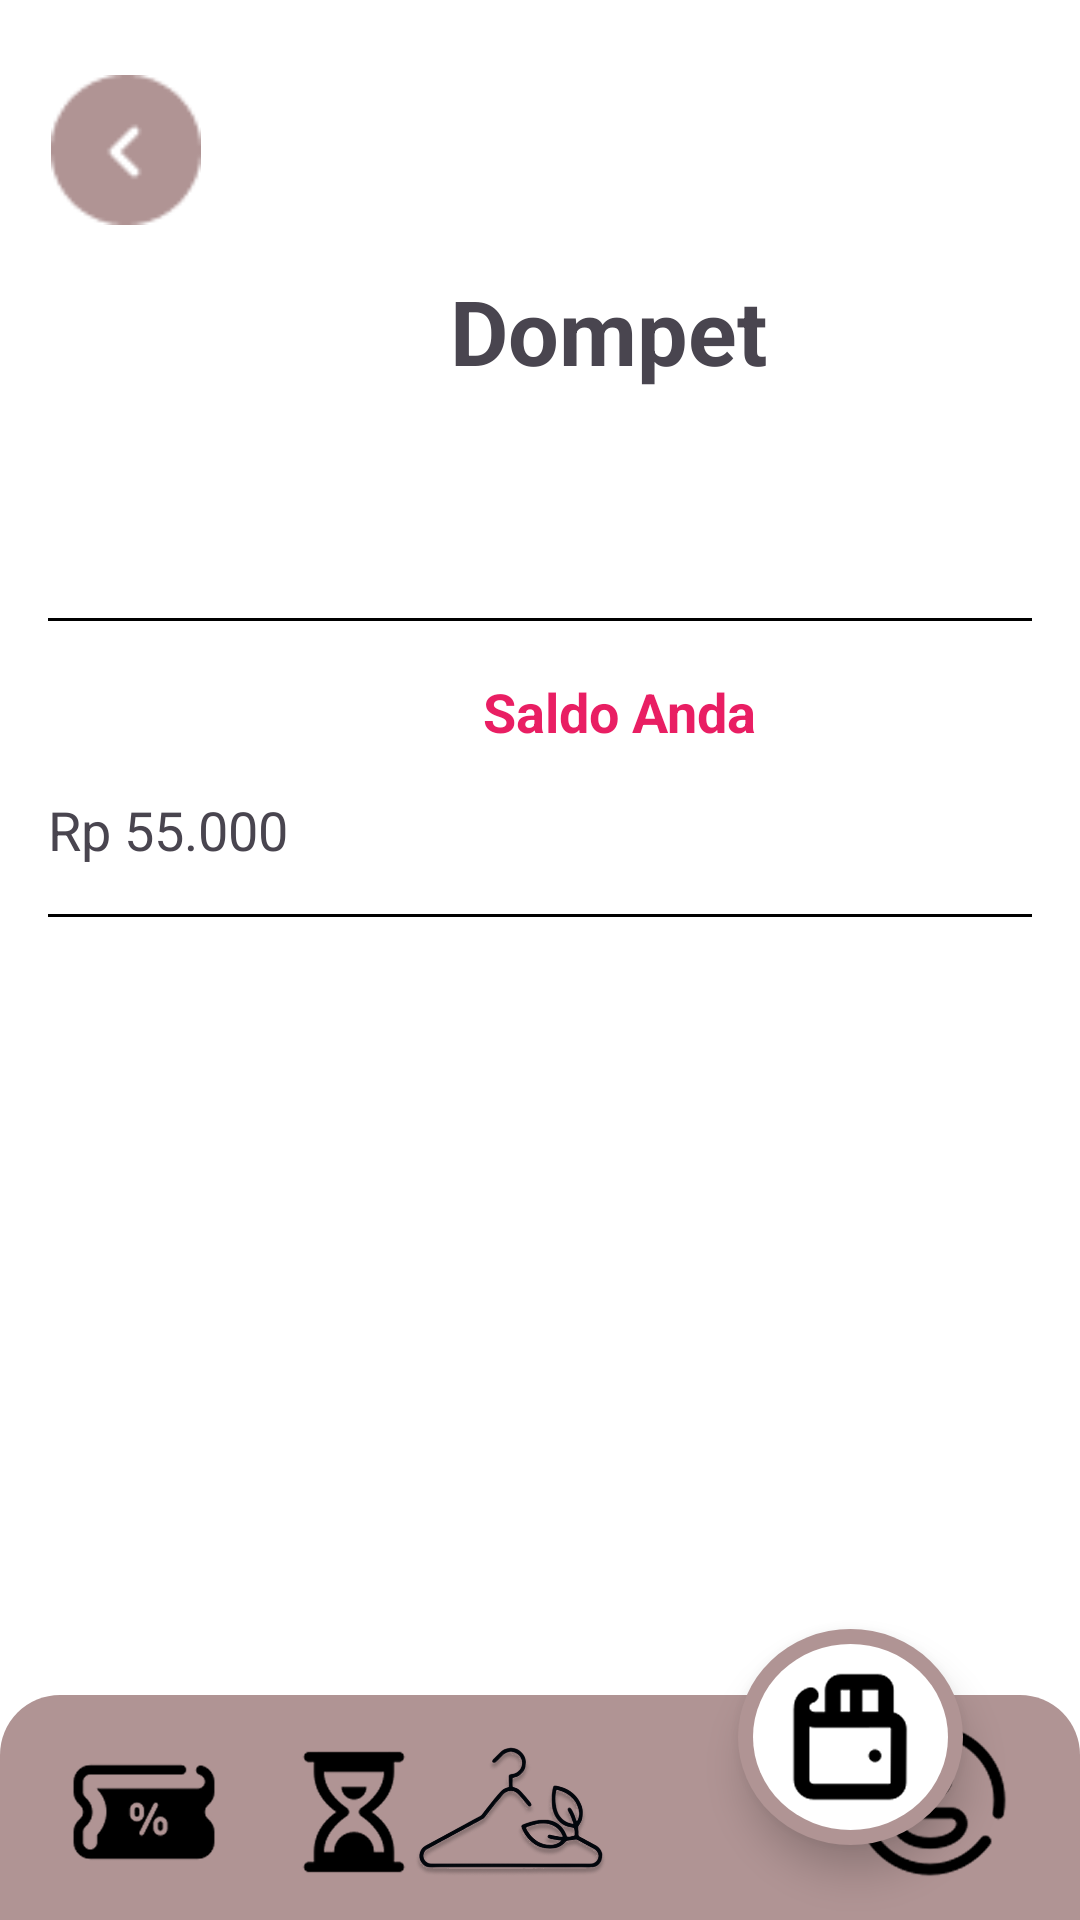

Named icons in this screenshot (1080w x 1920h) and their centers, (x,y):
back home: (126,150)
history: (354,1812)
uang: (850,1737)
